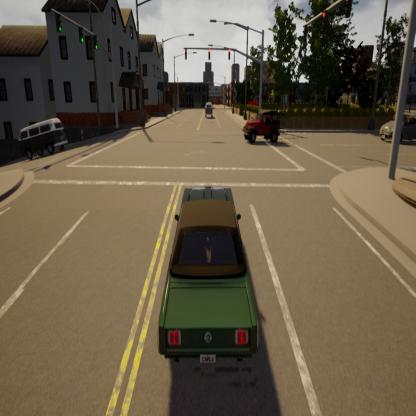Cars: (145, 178, 270, 374), (16, 115, 76, 166), (240, 103, 284, 144), (373, 106, 416, 145), (203, 99, 214, 118)
